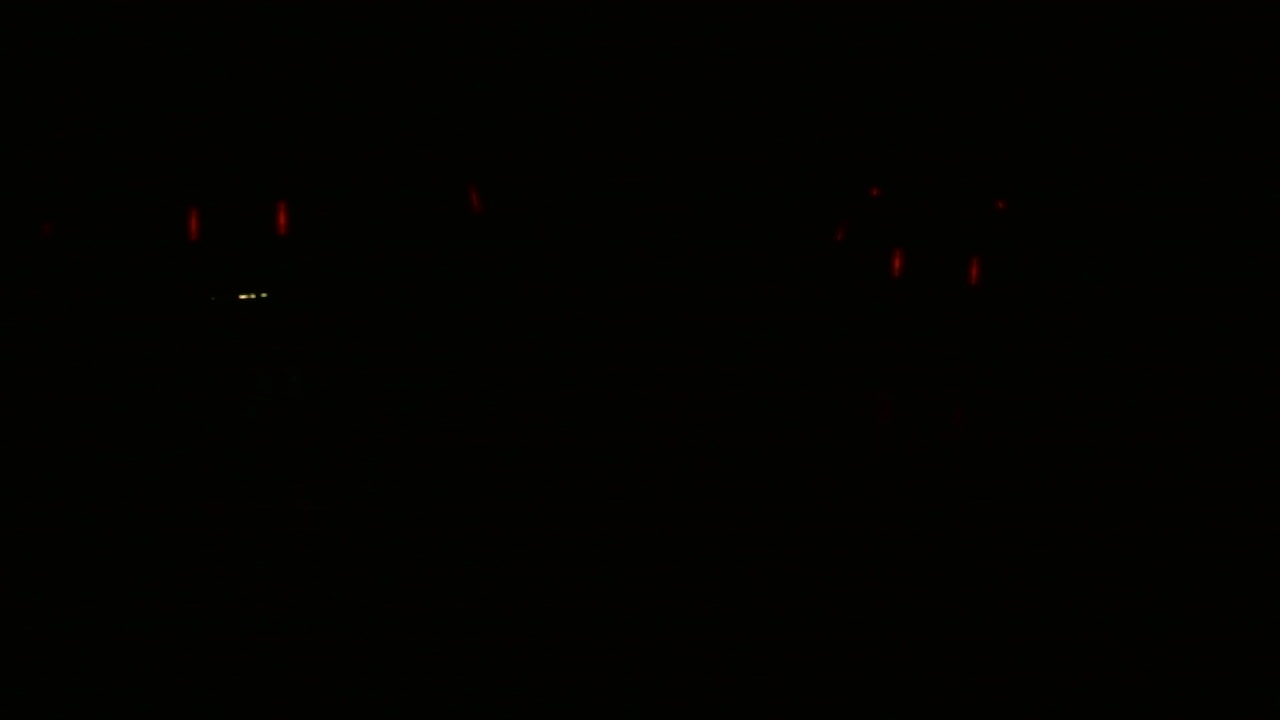pair1: (174, 193, 302, 254)
pair2: (881, 244, 991, 296)
